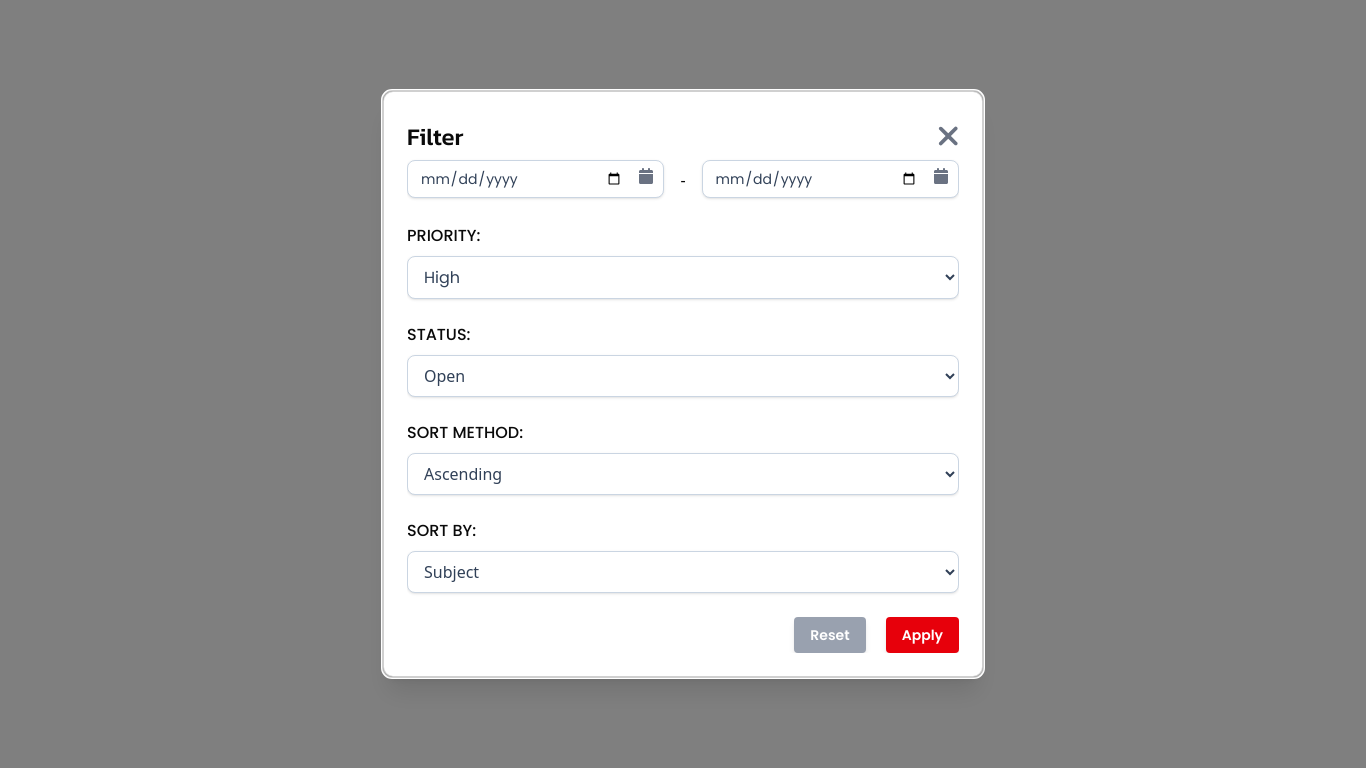
it: FilterModal › reset button clears all filters
This screenshot has width=1366, height=768.
(page scrolled)
Expected: the dropdown showing "High" is shown, [407,256,959,299]
Expected: the dropdown showing "Open" is shown, [407,355,959,397]
What coordinates should you click on to do the following:
click the button "Reset"
I would click on:
 (830, 635)
Its box is [794,617,866,653].
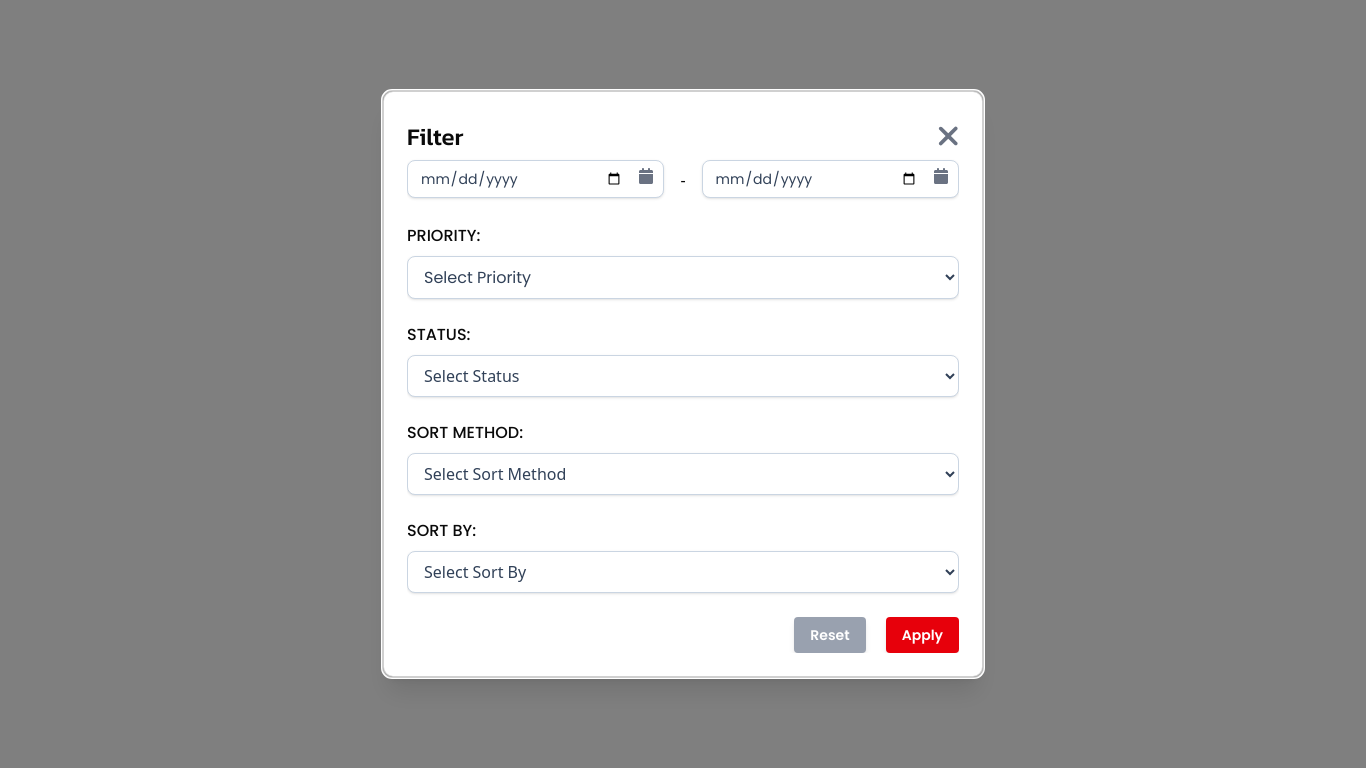
Expected: the dropdown showing "Select Priority" is shown, [407,256,959,299]
Expected: the dropdown showing "Select Status" is shown, [407,355,959,397]
